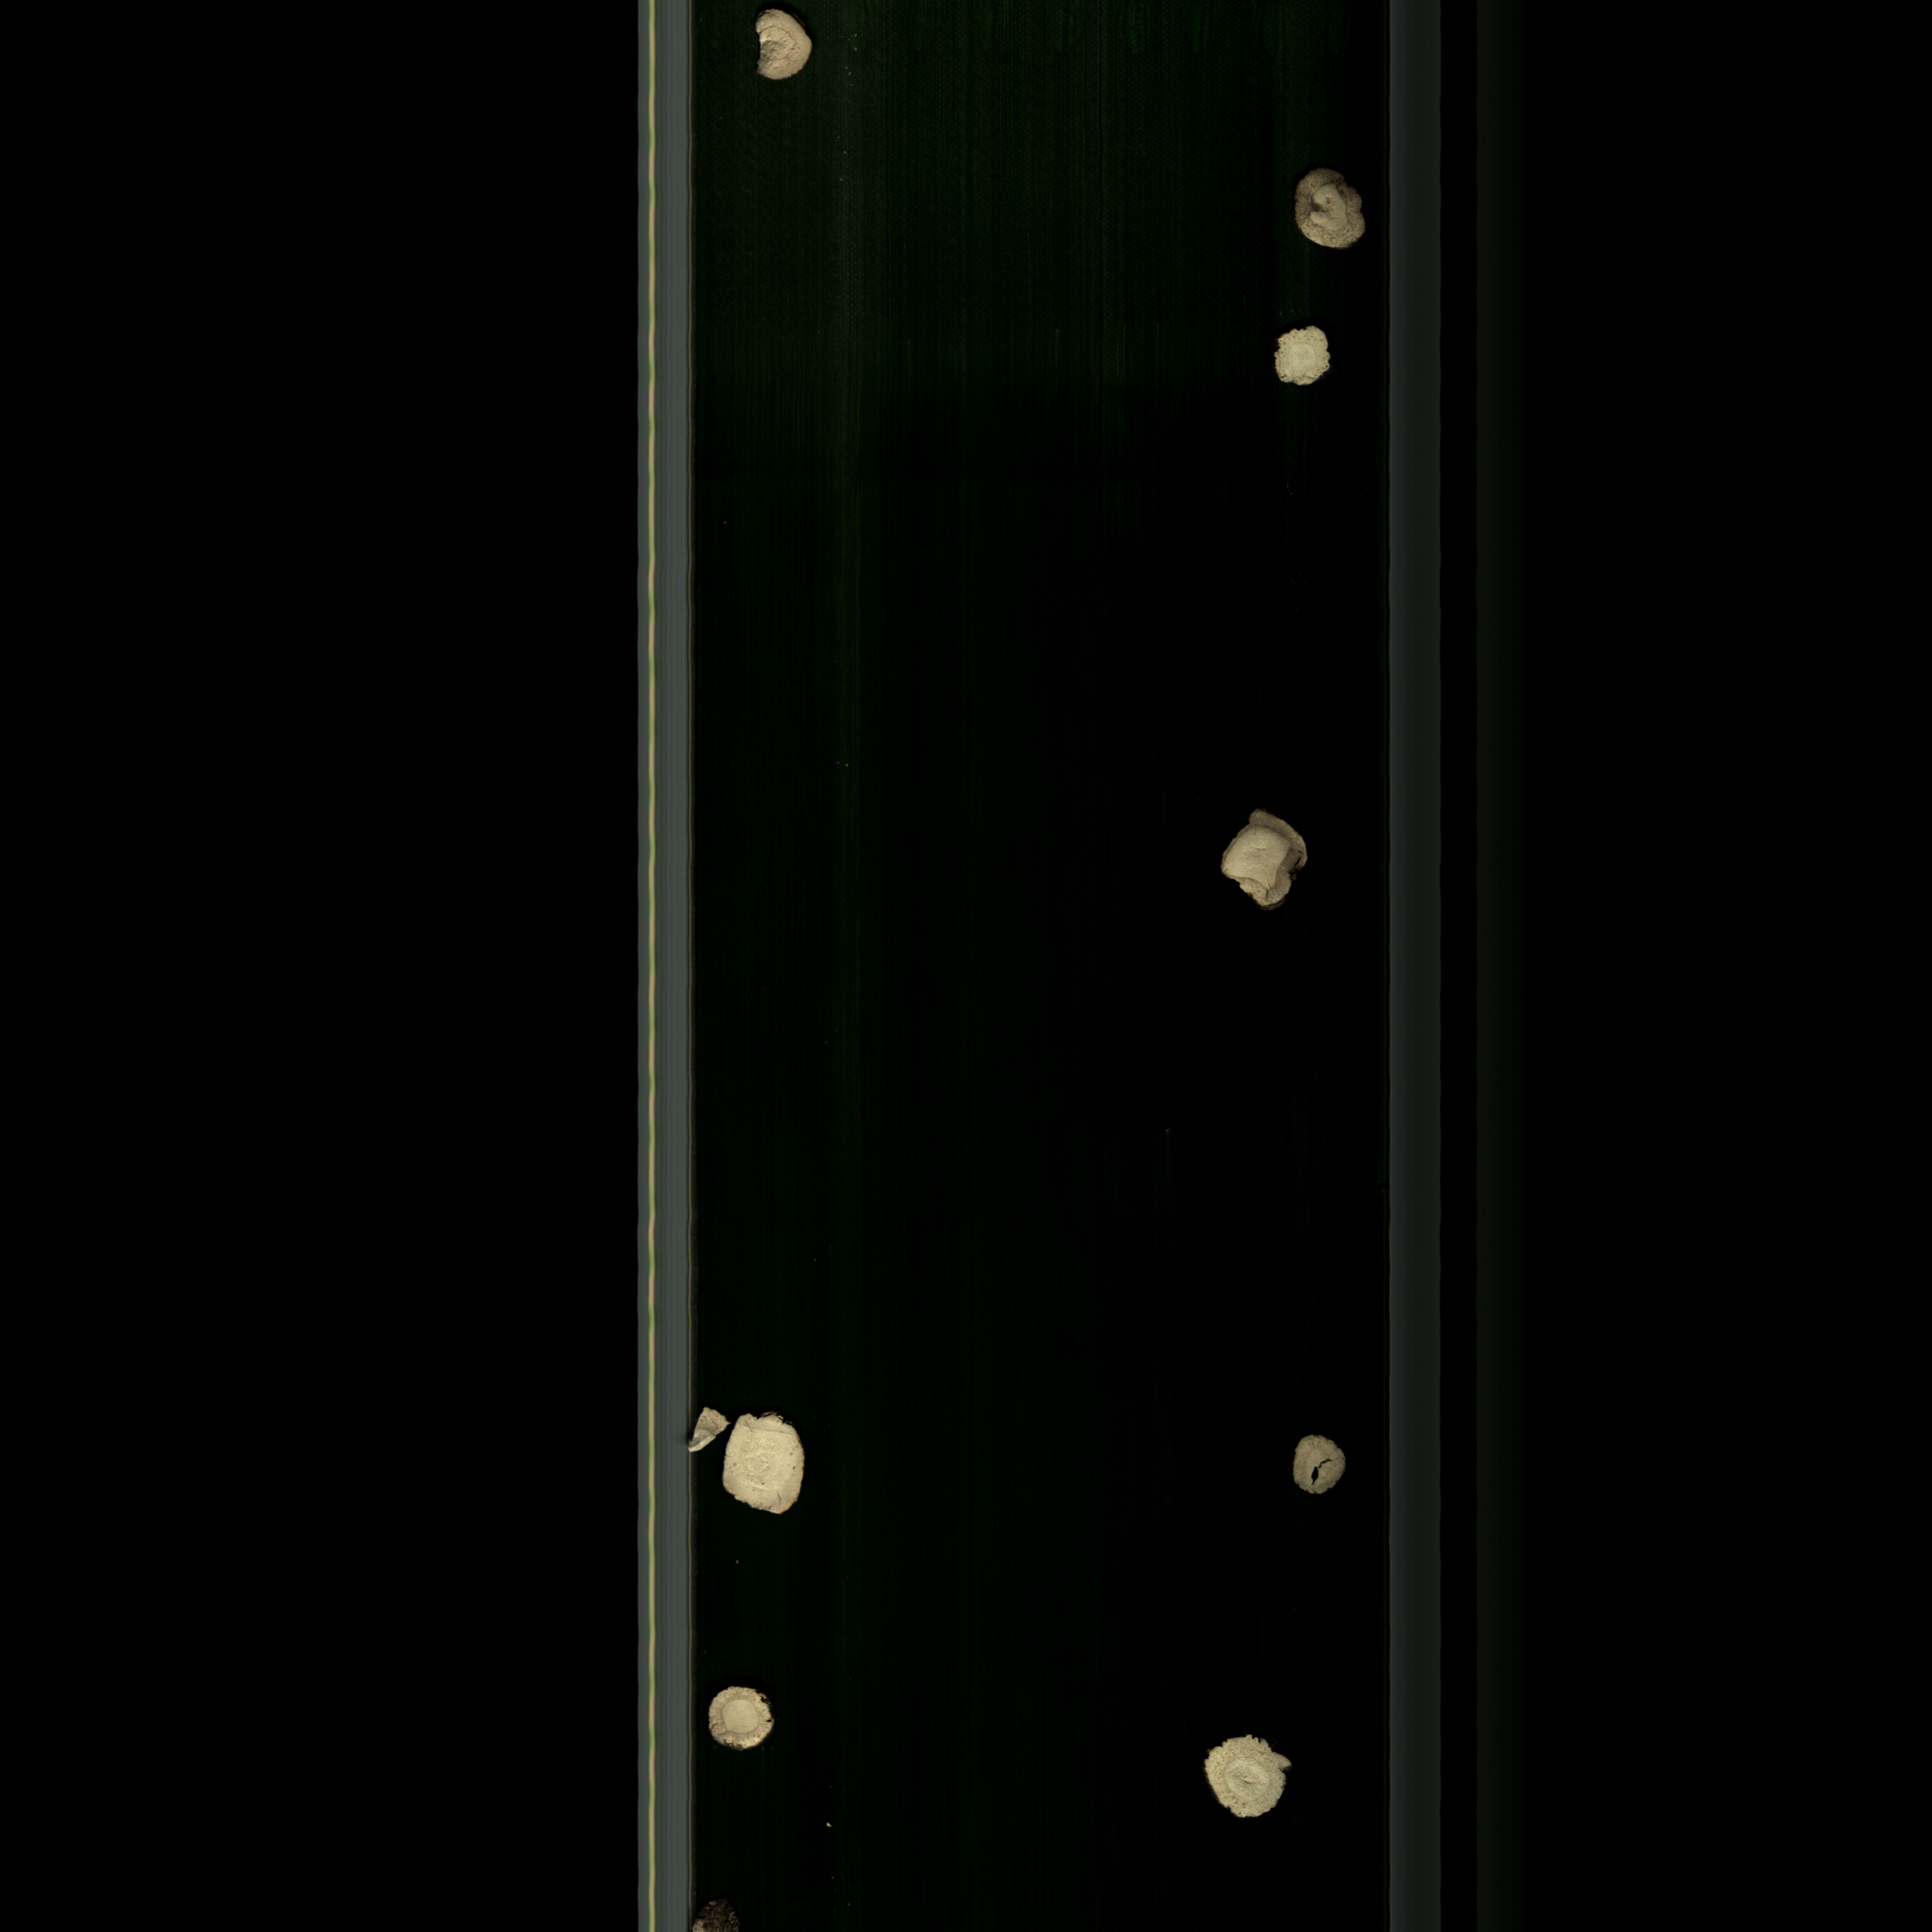bark: (686, 1888, 747, 1932)
distortion: (1198, 1727, 1299, 1831), (1276, 318, 1339, 389)
dreg: (678, 1396, 731, 1461)
hole: (1284, 1422, 1353, 1507)
moldy: (1207, 798, 1311, 925), (1295, 161, 1376, 262), (743, 5, 823, 94)
